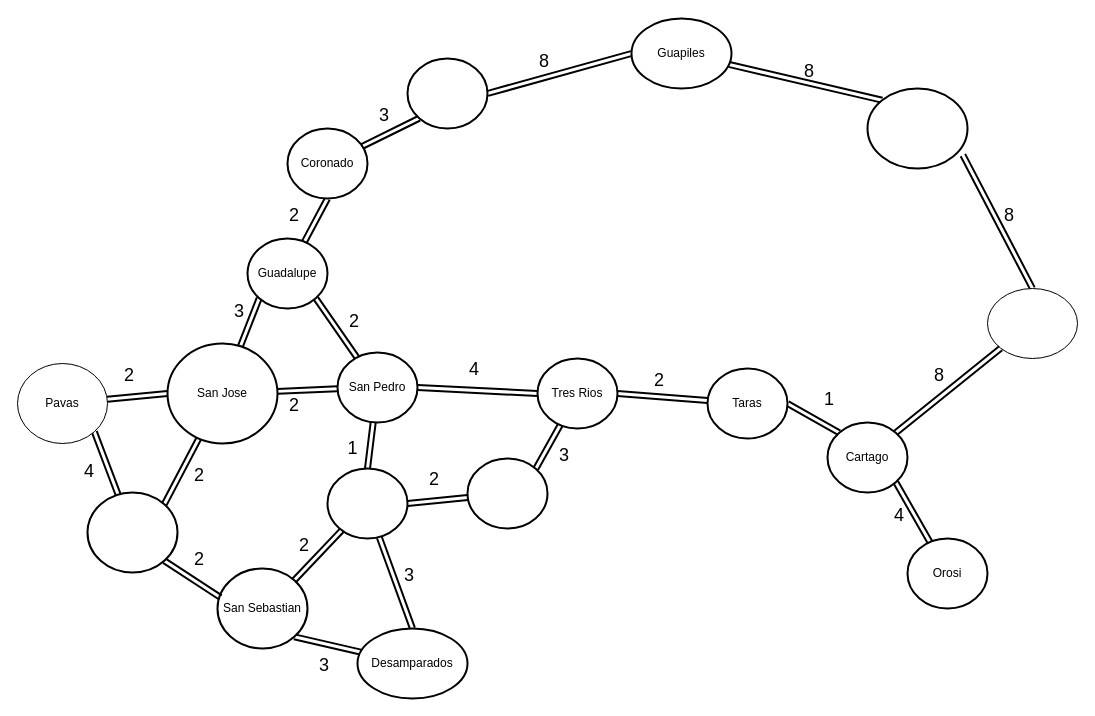
The diagram is 1095 pixels wide and 716 high, and some of its shapes have lost their labels. The shapes that lost their labels are listed below. From the top down, each one's centre as x and y in pixels, then its label:
At [447,93]: "Paracito".
At [917,128]: "Siquirres".
At [1032,323]: "Turrialba".
At [367,503]: "Zapote".
At [507,493]: "Curridabat".
At [132,532]: "Hatillo".
